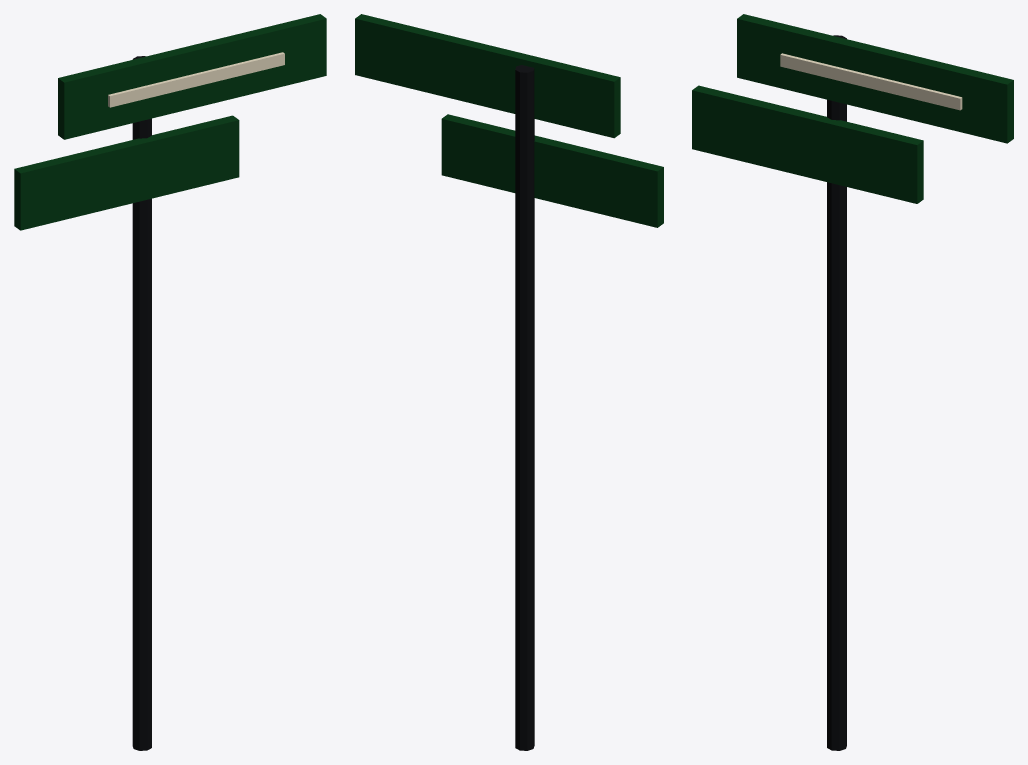
File: street_name_sign.obj
3 renders of one model, left to right at view 1: azimuth 30°, elevation 25°; view 2: azimuth 150°, elevation 25°; view 3: azimuth 330°, elevation 25°, orthographic. The views are drawn at different scales.
Visible parts, largest first — view 1: street_name_sign; view 2: street_name_sign; view 3: street_name_sign.
Part boxes in pixels (x1,y1,x2,y2): street_name_sign: (14, 14, 326, 750); street_name_sign: (355, 14, 663, 750); street_name_sign: (692, 14, 1013, 750).
Size of the model in its own units: 1.4 by 3.03 by 0.13.
